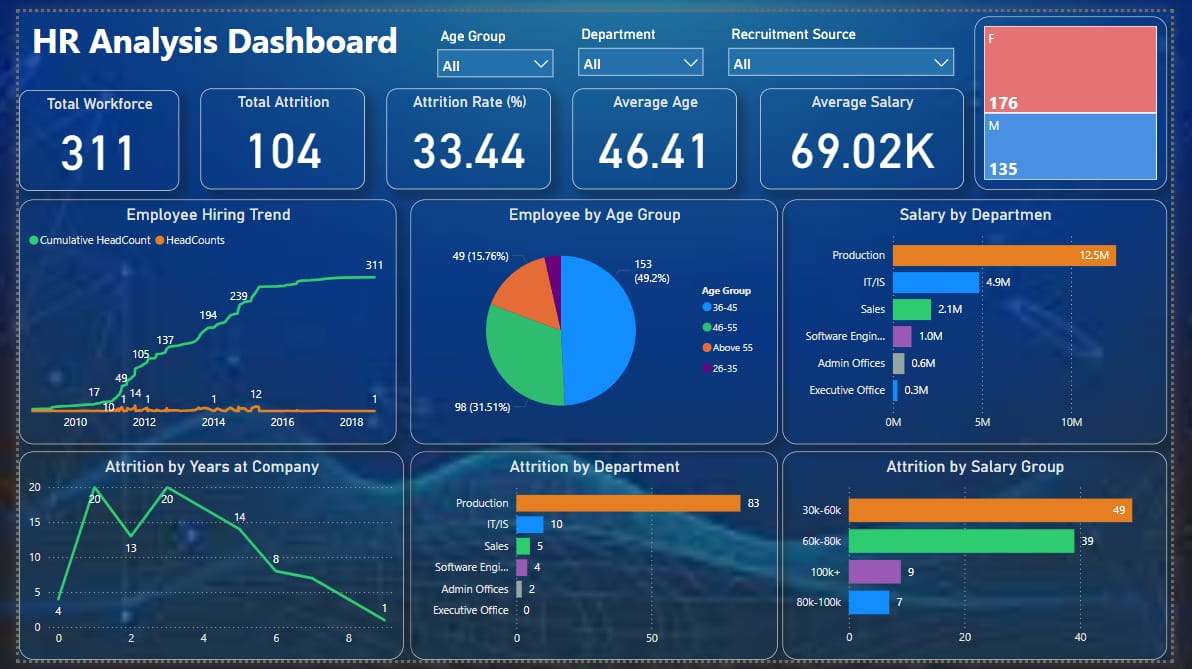

This screenshot's page, from the dashboard's own definition file:
{"tool":"powerbi","page":{"name":"Page 1","canvas":[1280,720],"ordinal":0},"visuals":[{"type":"barChart","title":"Attrition by Department","fields":{"Category":["HRDataset_v14.Department"],"Y":["Measure.Attrition Counts"]},"box":[435.6,489,408,231.5],"z":0},{"type":"card","title":"Total Workforce","fields":{"Values":["Measure.HeadCounts"]},"box":[0,87.4,178.1,111.7],"z":1000},{"type":"card","title":"Average Salary","fields":{"Values":["Measure.Avg Salary"]},"box":[822.6,85.8,226.7,111.7],"z":2000},{"type":"card","title":"Attrition Rate (%)","fields":{"Values":["Measure.Attrition %"]},"box":[408.9,85.8,183,111.7],"z":3000},{"type":"card","title":"Total Attrition","fields":{"Values":["Measure.Attrition Counts"]},"box":[202,85.8,183,111.7],"z":4000},{"type":"card","title":"Average Age","fields":{"Values":["Measure.Avg Age"]},"box":[615.7,85.8,183,111.7],"z":5000},{"type":"pieChart","title":"Employee by Age Group","fields":{"Category":["HRDataset_v14.Age Group"],"Y":["Measure.HeadCounts"]},"box":[435.6,208.9,408,272],"z":6000},{"type":"treemap","fields":{"Group":["HRDataset_v14.Gender"],"Values":["Measure.HeadCounts"]},"box":[1062.2,4.9,213.7,192.7],"z":7000},{"type":"lineChart","title":"Employee Hiring Trend","fields":{"Y":["Measure.Cummulative HeadCount","Measure.HeadCounts"],"Category":["HRDataset_v14.DateofHire"]},"box":[0,208.9,419.4,272],"z":8000},{"type":"lineChart","title":"Attrition by Years at Company","fields":{"Y":["Measure.Attrition Counts"],"Category":["HRDataset_v14.Experience"]},"box":[0,489,427.5,231.5],"z":9000},{"type":"barChart","title":"Salary by Departmen","fields":{"Category":["HRDataset_v14.Department"],"Y":["Sum(HRDataset_v14.Salary)"]},"box":[848.5,208.9,427.5,272],"z":10000},{"type":"slicer","fields":{"Values":["HRDataset_v14.Department"]},"box":[612.1,10.5,158.7,72.9],"z":11000},{"type":"slicer","fields":{"Values":["HRDataset_v14.RecruitmentSource"]},"box":[778.8,10.5,270.4,72.9],"z":12000},{"type":"slicer","fields":{"Values":["HRDataset_v14.Age Group"]},"box":[455,11.3,149,72],"z":13000},{"type":"textbox","box":[0,0,435,83.3],"z":14000},{"type":"barChart","title":"Attrition by Salary Group","fields":{"Category":["HRDataset_v14.Salary Group"],"Y":["Measure.Attrition Counts"]},"box":[848,489,427,231],"z":15000}]}

Visuals, with their boxes in screenshot pixels (x1, y1, x2, y2), scaled from the page's 1280x720 canvas onto the 1192x669 screenshot:
"Attrition by Department" barChart: crop(406, 454, 786, 668)
"Total Workforce" card: crop(0, 81, 166, 185)
"Average Salary" card: crop(766, 80, 977, 184)
"Attrition Rate (%)" card: crop(381, 80, 551, 184)
"Total Attrition" card: crop(188, 80, 359, 184)
"Average Age" card: crop(573, 80, 744, 184)
"Employee by Age Group" pieChart: crop(406, 194, 786, 447)
treemap - HRDataset_v14.Gender x Measure.HeadCounts: crop(989, 5, 1188, 184)
"Employee Hiring Trend" lineChart: crop(0, 194, 391, 447)
"Attrition by Years at Company" lineChart: crop(0, 454, 398, 668)
"Salary by Departmen" barChart: crop(790, 194, 1188, 447)
slicer - HRDataset_v14.Department: crop(570, 10, 718, 77)
slicer - HRDataset_v14.RecruitmentSource: crop(725, 10, 977, 77)
slicer - HRDataset_v14.Age Group: crop(424, 10, 562, 77)
textbox: crop(0, 0, 405, 77)
"Attrition by Salary Group" barChart: crop(790, 454, 1187, 668)
